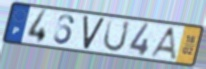4: (26, 8, 49, 45), (128, 22, 151, 57)
6: (53, 14, 75, 46)
A: (147, 25, 178, 61)
U: (101, 17, 131, 53)
V: (82, 15, 106, 51)
